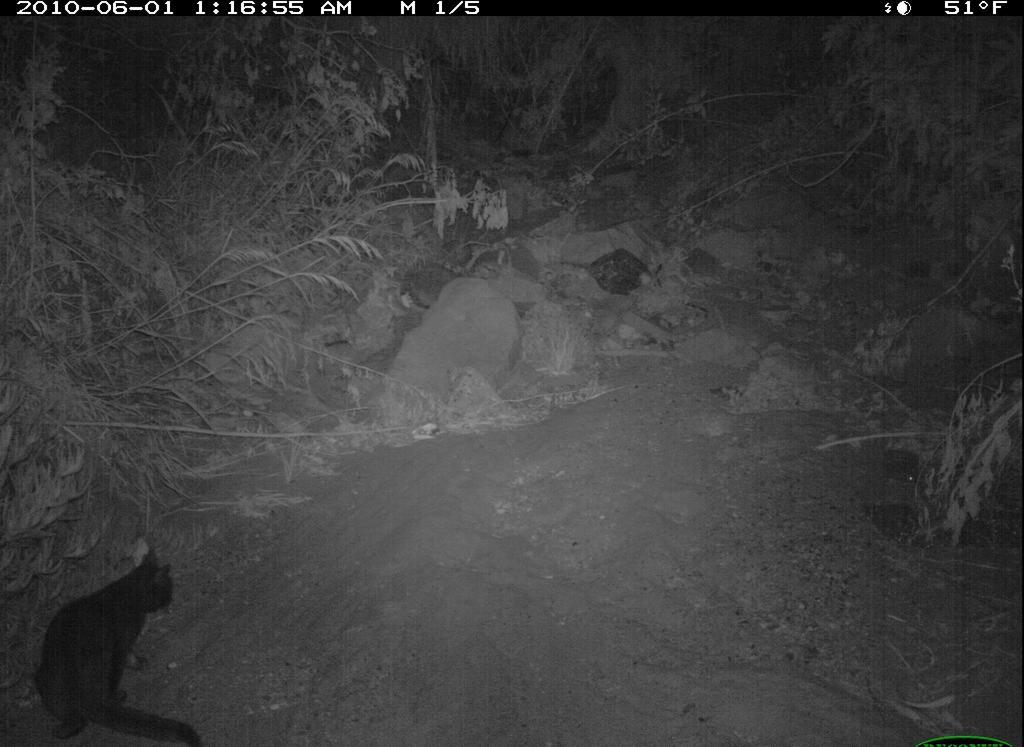cat: (34, 536, 212, 747)
